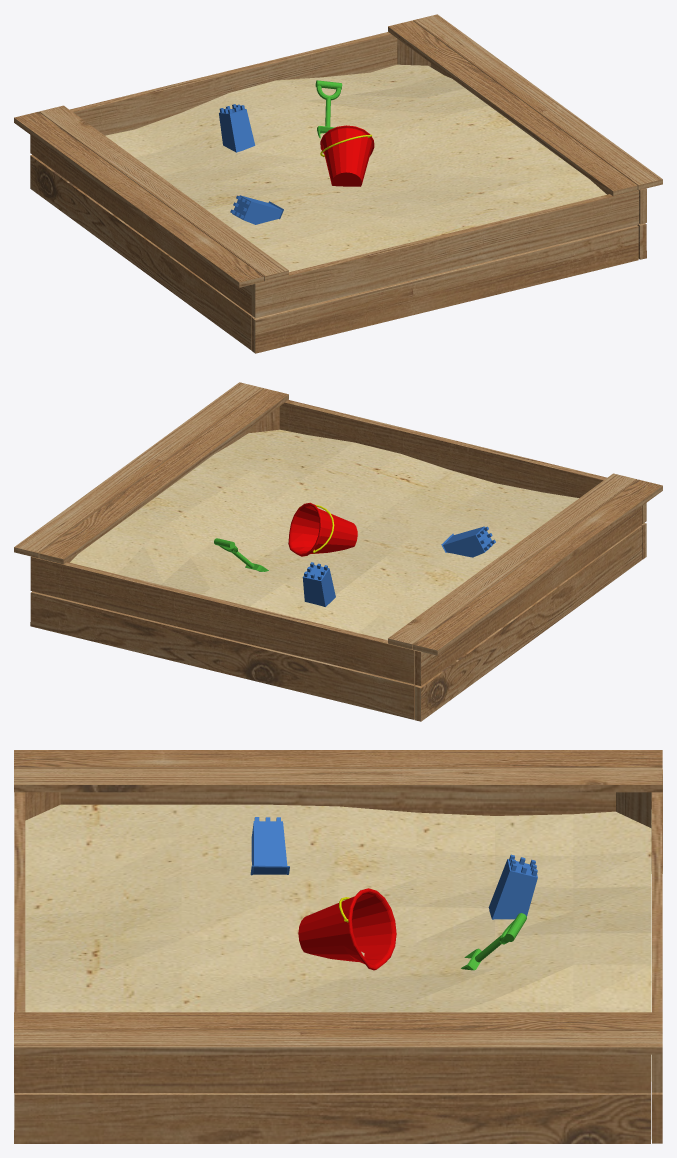
Rendered from sweethome3d-scopia-sandpit.glb.
3 renders of one model, top to bottom at view 1: azimuth 30°, elevation 25°; view 2: azimuth 150°, elevation 25°; view 3: azimuth 270°, elevation 25°, orthographic. The views are drawn at different scales.
Visible parts, largest first — view 1: sand_Plane, Cube.008_Cube.009, Cube_Cube.001, Cube.001_Cube.002, Cube.007_Cube.008, Cube.005_Cube.006, Cube.004_Cube.005, bucket.001_Plane.006, Plane.001_Plane.005, Plane_Plane.003, Cylinder, Cube.013_Cube.014; view 2: sand_Plane, Cube.008_Cube.009, Cube.007_Cube.008, Cube.006_Cube.007, Cube_Cube.001, Cube.005_Cube.006, Cube.004_Cube.005, bucket.001_Plane.006, Plane.001_Plane.005, Plane_Plane.003; view 3: sand_Plane, Cube.008_Cube.009, Cube.002_Cube.003, Cube.003_Cube.004, Cube.004_Cube.005, bucket.001_Plane.006, Cube.007_Cube.008, Cube_Cube.001, Plane.001_Plane.005, Plane_Plane.003, Cube.012_Cube.013, Cylinder (+2 smaller).
Boxes of the visible parts, <box> form: sand_Plane: <box>105,64,606,272</box>; Cube.008_Cube.009: <box>14,14,662,287</box>; Cube_Cube.001: <box>251,190,638,317</box>; Cube.001_Cube.002: <box>251,225,638,353</box>; Cube.007_Cube.008: <box>70,32,397,135</box>; Cube.005_Cube.006: <box>30,154,252,350</box>; Cube.004_Cube.005: <box>30,135,251,314</box>; bucket.001_Plane.006: <box>320,125,374,186</box>; Plane.001_Plane.005: <box>219,104,255,152</box>; Plane_Plane.003: <box>230,195,283,224</box>; Cylinder: <box>315,80,342,138</box>; Cube.013_Cube.014: <box>397,39,430,66</box>; sand_Plane: <box>70,429,578,640</box>; Cube.008_Cube.009: <box>14,382,662,655</box>; Cube.007_Cube.008: <box>30,556,414,684</box>; Cube.006_Cube.007: <box>30,591,415,719</box>; Cube_Cube.001: <box>279,400,646,523</box>; Cube.005_Cube.006: <box>414,525,642,721</box>; Cube.004_Cube.005: <box>414,506,642,685</box>; bucket.001_Plane.006: <box>288,502,357,556</box>; Plane.001_Plane.005: <box>302,562,335,606</box>; Plane_Plane.003: <box>441,526,495,557</box>; sand_Plane: <box>25,804,651,1081</box>; Cube.008_Cube.009: <box>14,750,662,1054</box>; Cube.002_Cube.003: <box>14,1093,650,1143</box>; Cube.003_Cube.004: <box>14,1054,650,1092</box>; Cube.004_Cube.005: <box>60,769,662,822</box>; bucket.001_Plane.006: <box>298,888,396,970</box>; Cube.007_Cube.008: <box>652,792,662,1092</box>; Cube_Cube.001: <box>14,792,25,1012</box>; Plane.001_Plane.005: <box>488,854,537,919</box>; Plane_Plane.003: <box>250,817,289,875</box>; Cube.012_Cube.013: <box>616,792,651,827</box>; Cylinder: <box>461,913,526,970</box>.
Bounding box in the file's own units: 130 × 26.03 × 120.
Materials: 6 (2 with a texture image).
